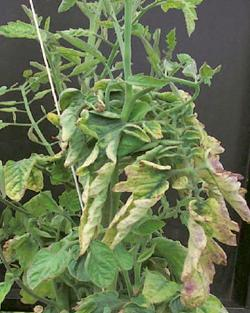Tomato leaf yellow virus: (101, 162, 169, 249), (3, 147, 41, 211), (27, 234, 68, 290), (83, 238, 120, 290), (2, 17, 51, 48), (137, 271, 177, 306)
